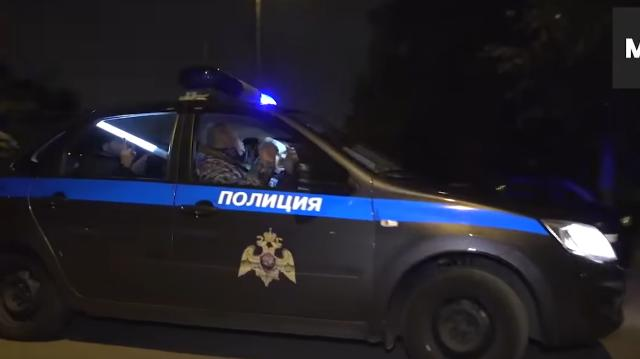police car: (1, 63, 625, 359)
